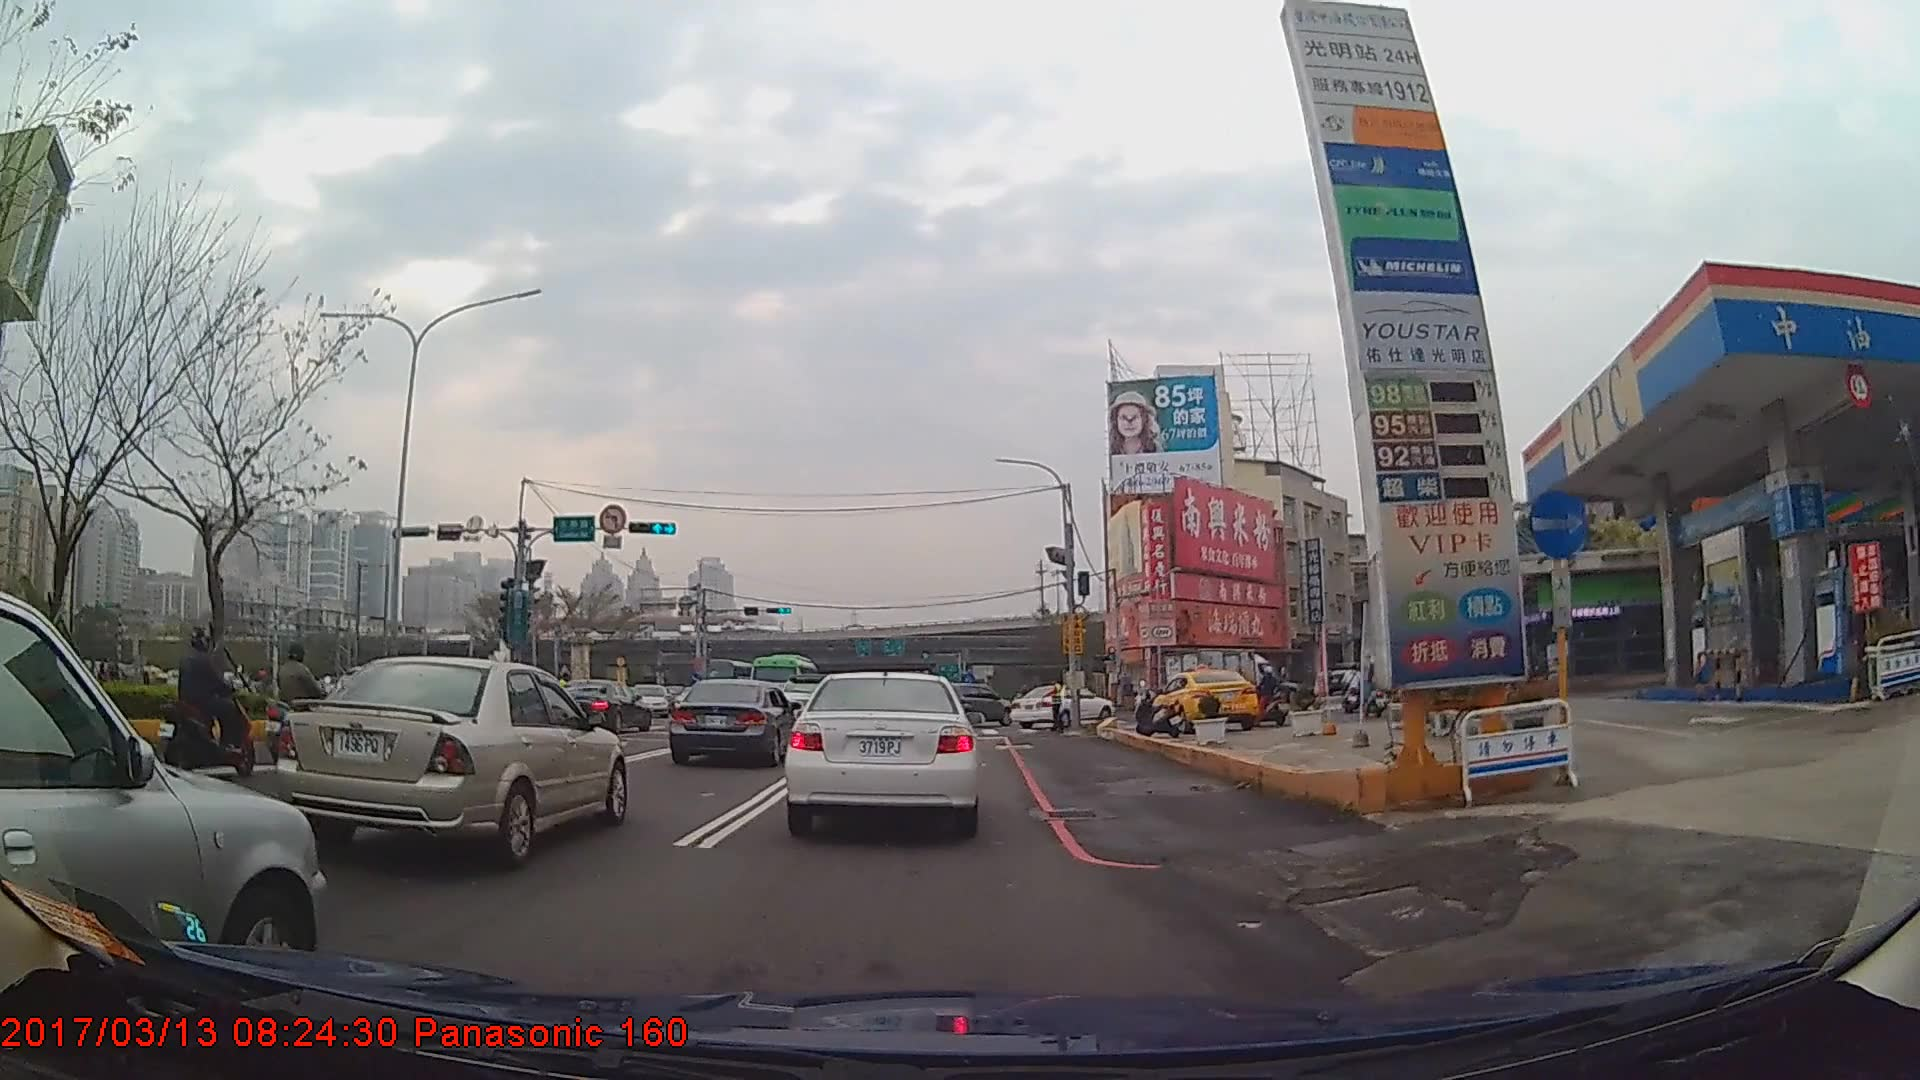pedestrian: (1038, 677, 1065, 733)
rider: (161, 626, 254, 781), (269, 642, 343, 764), (1343, 656, 1387, 718), (1252, 666, 1289, 726)
vehicle: (0, 594, 327, 992), (278, 655, 628, 869), (787, 666, 980, 835), (670, 678, 801, 767), (1160, 647, 1276, 714), (1154, 668, 1264, 732), (553, 678, 652, 732), (1011, 682, 1116, 729), (749, 653, 822, 711), (935, 682, 1015, 728)
